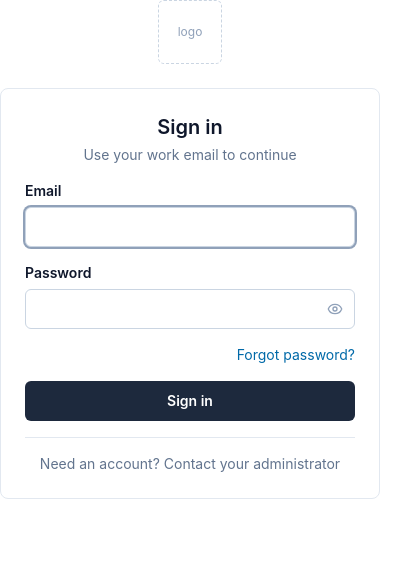
Scenario: LoginPage (submit flow, AC2 — credential-error banner) › AC2: shows the banner with the exact contract message, keeps the typed email, and does not redirect
The image size is (397, 570).
Step 1. Type "ada@example.com" into the field labelled "Email" → coordinates (190, 227), box [25,207,355,247]
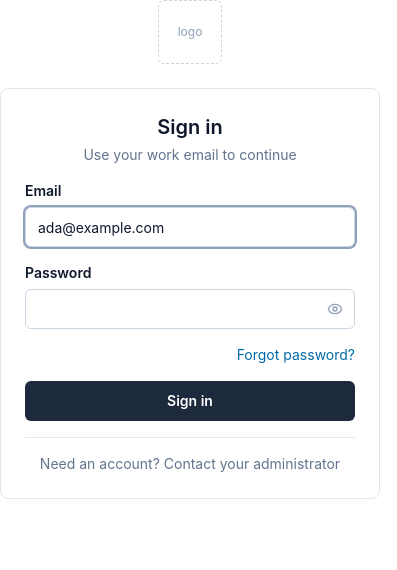
Step 2. Type "wrong-password" into the password field labelled "Password" → coordinates (190, 309), box [25,289,355,329]
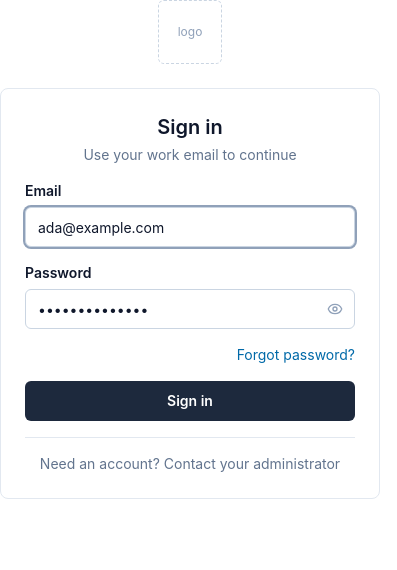
Step 3. Click the button "Sign in" → coordinates (190, 401), box [25,381,355,421]
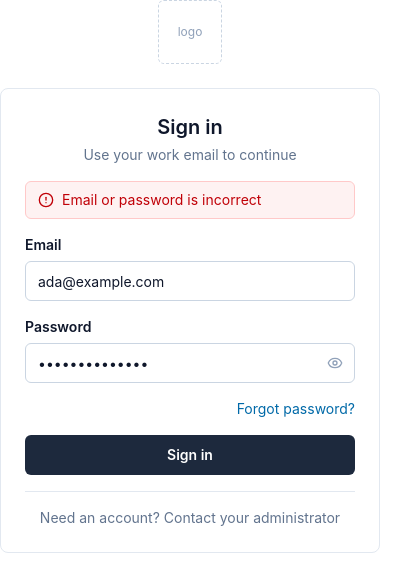
Expected: the message reads "Email or password is incorrect", [62,191,261,208]
